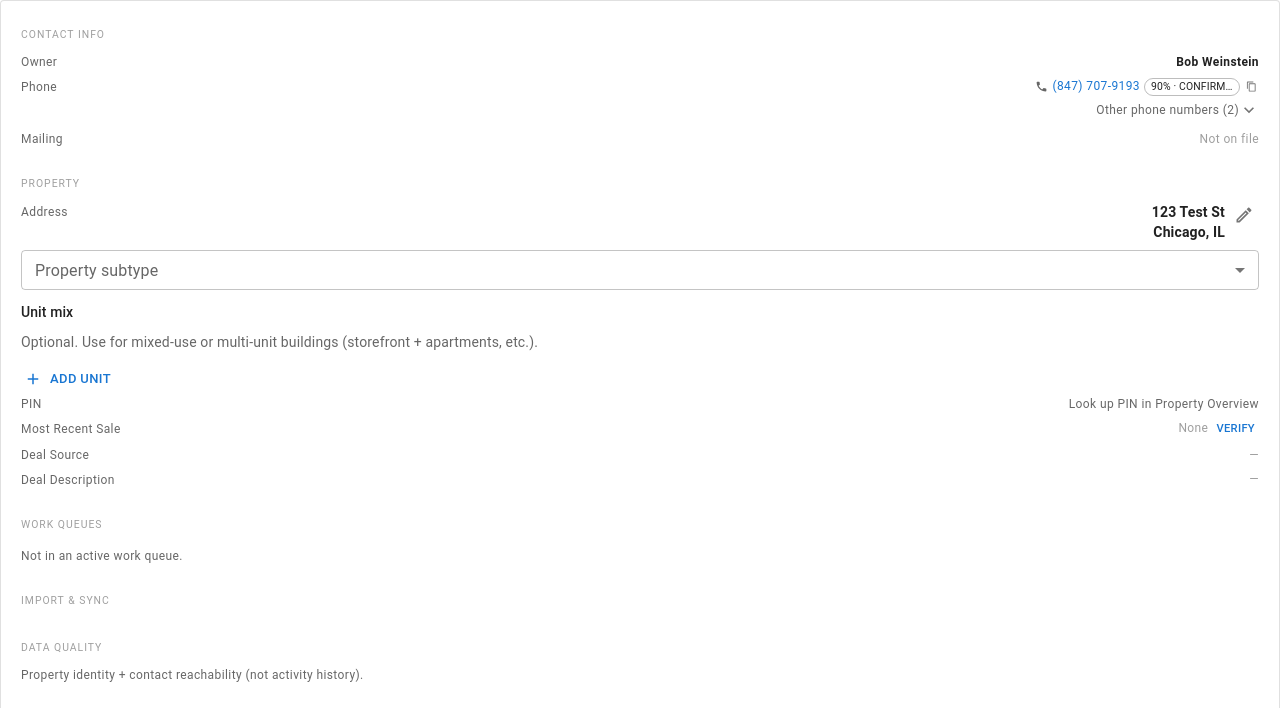
Test: PropertySidebar phone confidence › collapses lower-confidence phones when a high-confidence phone exists
Expected: the element with test id "sidebar-phones" shows "Phone", [21, 80, 57, 94]
Click the button "Other phone numbers (2)": point(1178, 110) [1096, 100, 1259, 120]
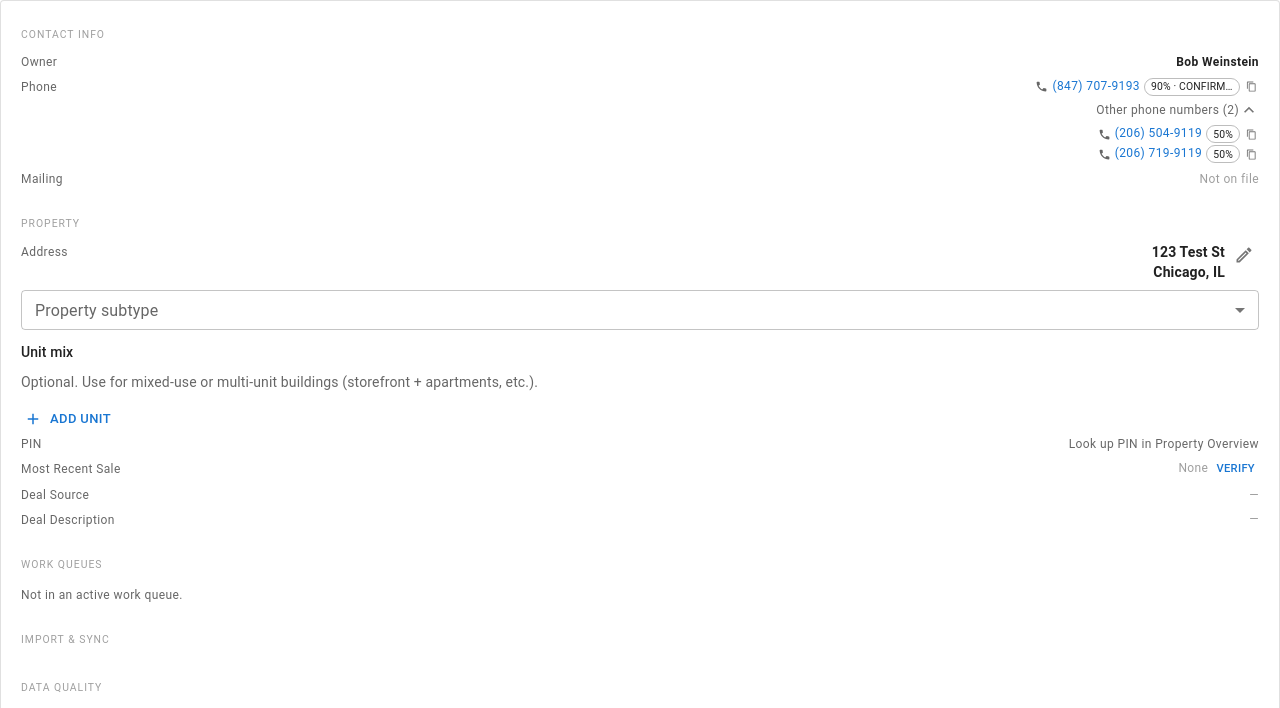
Expected: the button "Other phone numbers (2)" is expanded, [1096, 100, 1259, 120]
